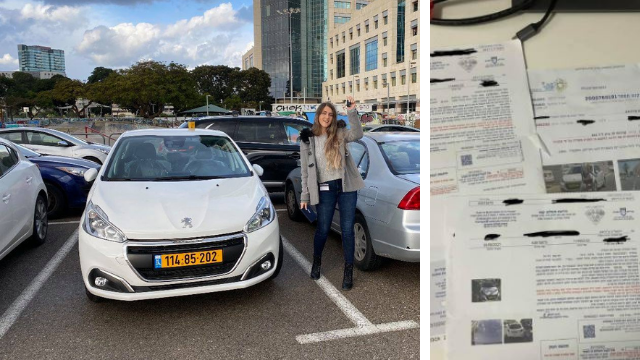licence: (150, 245, 226, 271)
